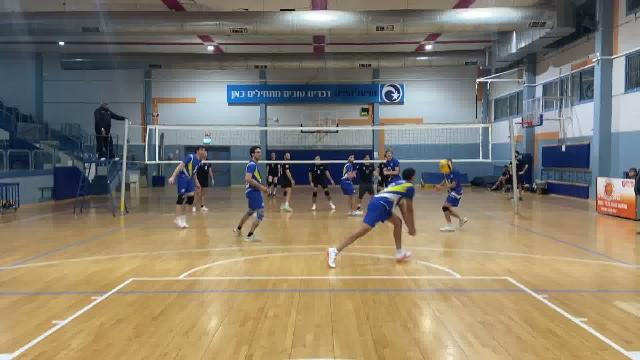ball: (437, 159, 453, 173)
